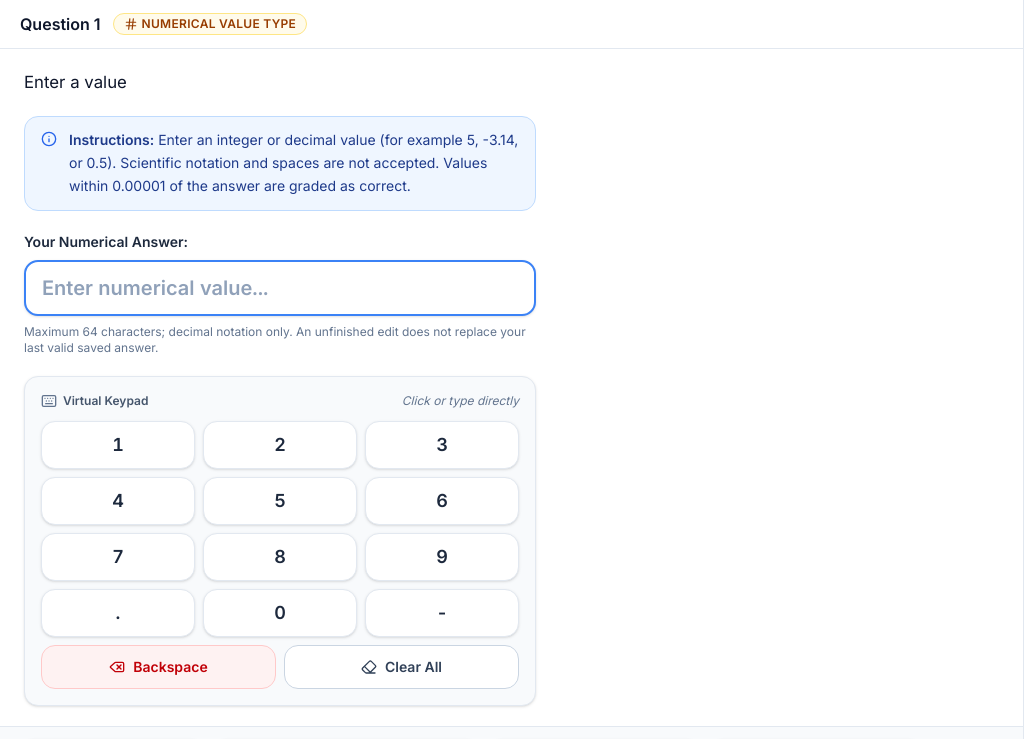
Scenario: QuestionPanel numerical answers › saves only complete decimal values while typing
Step 1. Type "-." into the field labelled "Your Numerical Answer:" → coordinates (280, 288), box 24,260 -> 536,316
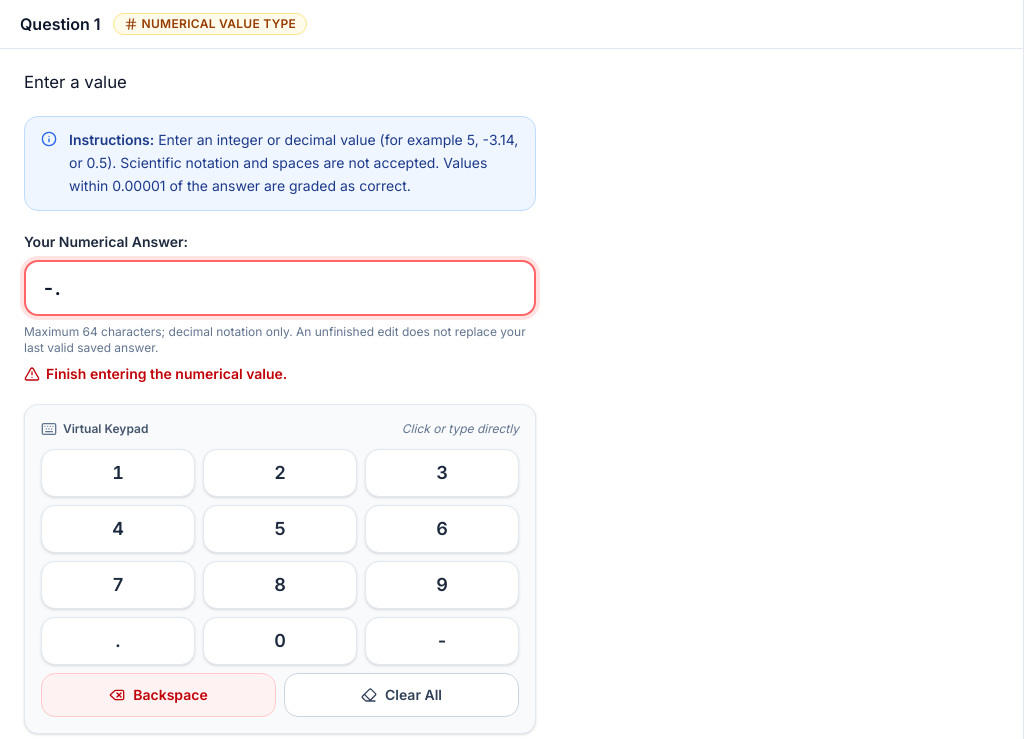
Expected: the message reads "Finish entering the numerical value.", 46,364 -> 287,382
Step 2. Type "25" into the field labelled "Your Numerical Answer:" → coordinates (280, 288), box 24,260 -> 536,316
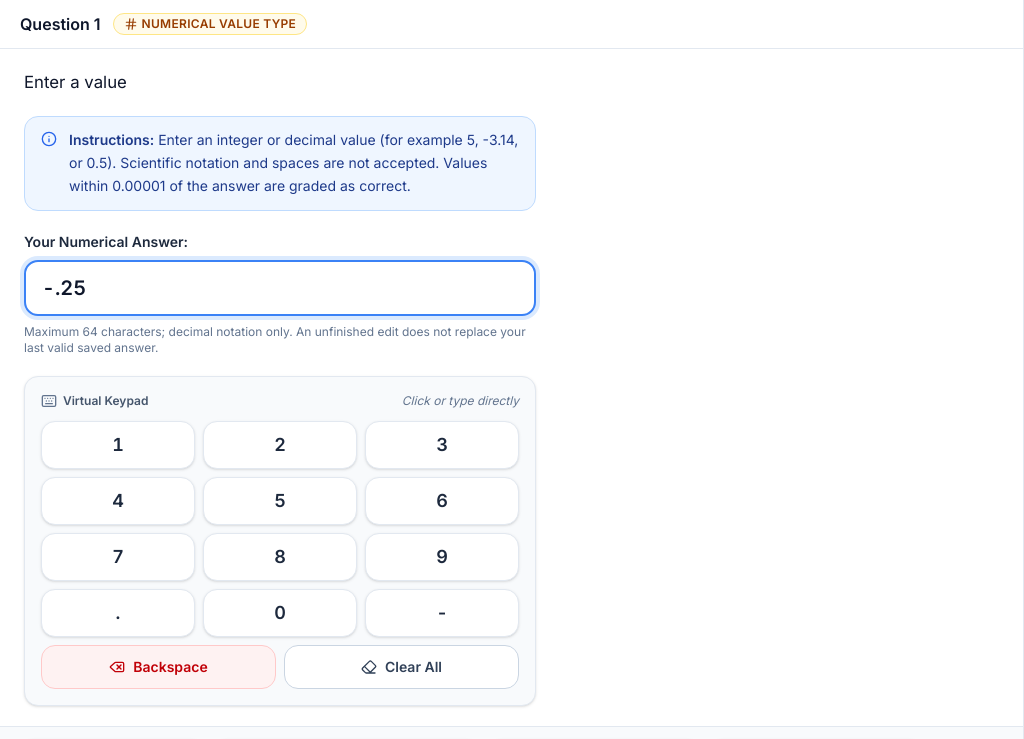
Expected: the field labelled "Your Numerical Answer:" holds "-.25", 24,260 -> 536,316
Expected: the message "Finish entering the numerical value." is gone
